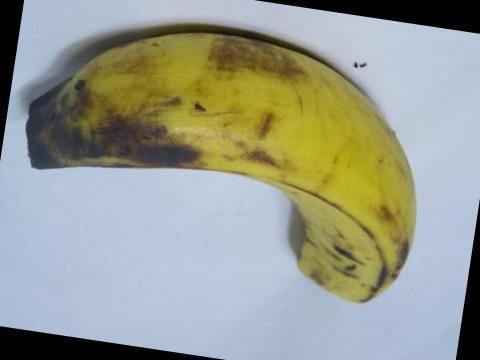ripe: (12, 26, 429, 311)
